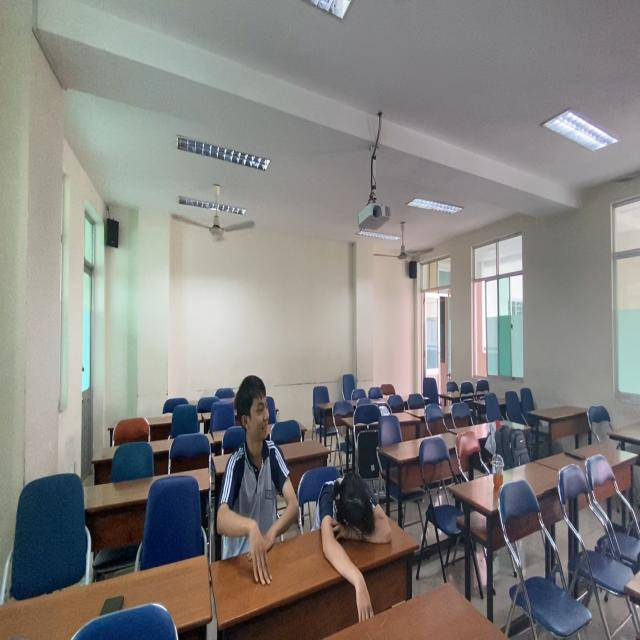sleep: (312, 459, 398, 582)
